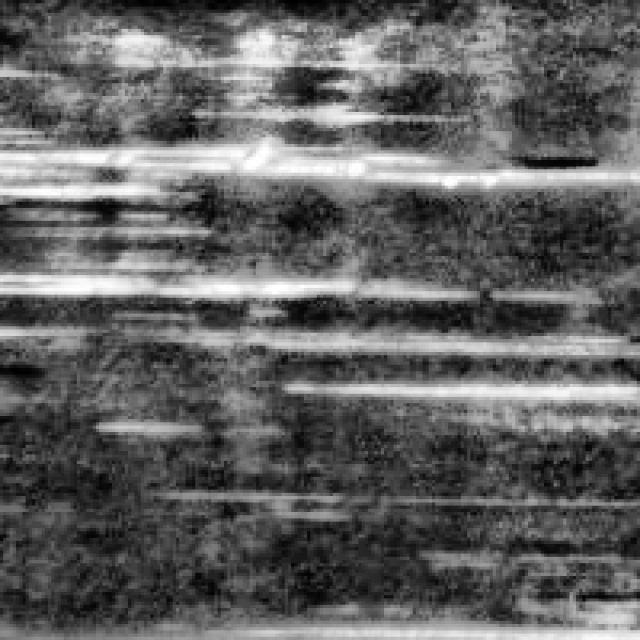Inclusion: (0, 275, 630, 368), (0, 137, 630, 204), (278, 362, 637, 406), (0, 259, 352, 298)
